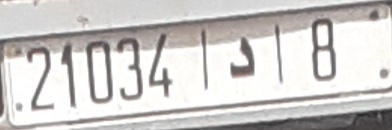0: (85, 39, 116, 105)
1: (59, 43, 80, 110)
2: (25, 44, 57, 111)
3: (115, 37, 145, 103)
4: (148, 32, 174, 101)
8: (309, 17, 341, 83)
d: (226, 35, 257, 80)
